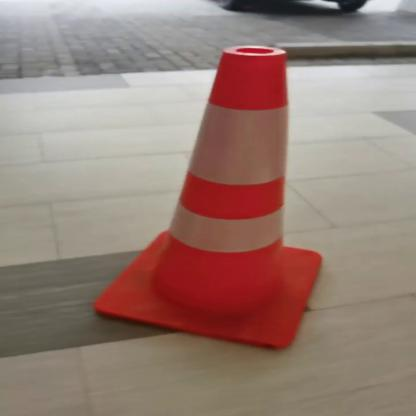cone: (89, 39, 334, 355)
